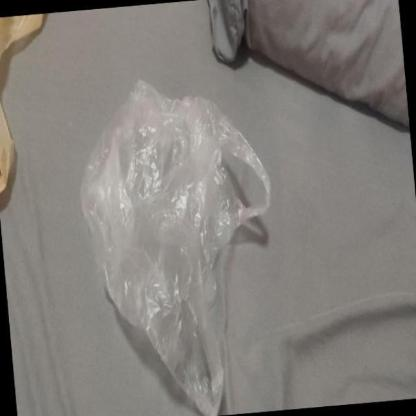Plastic Bag: (80, 76, 274, 416)
